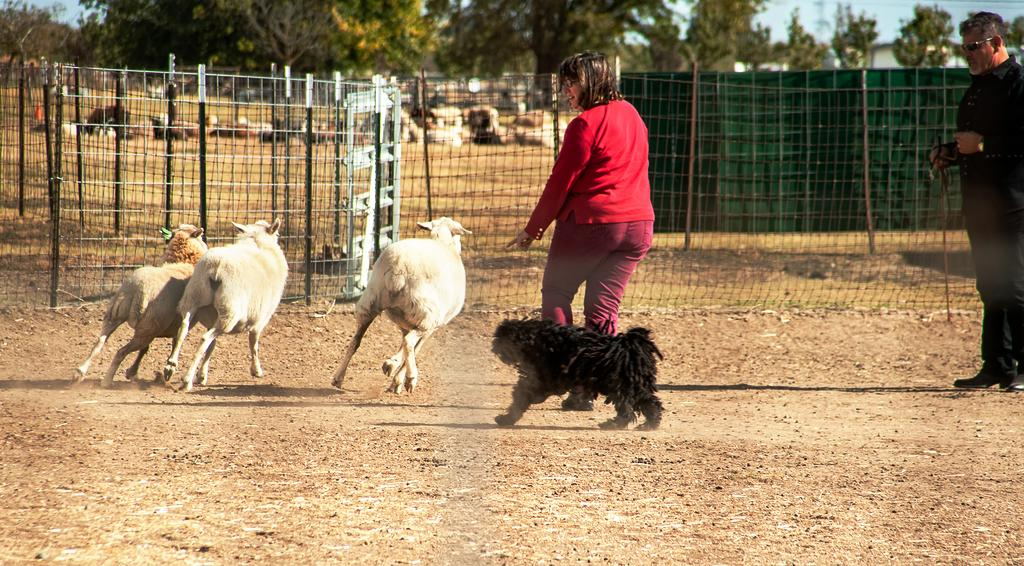Sheep: (66, 221, 214, 386), (332, 217, 472, 390), (167, 226, 286, 384)
